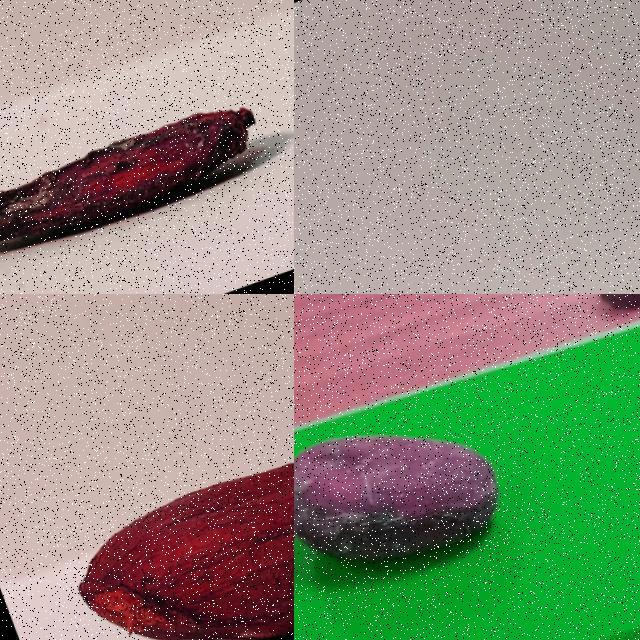Fine_cocoabeans: (12, 350, 293, 639), (294, 352, 558, 639)
Flat_cocoabeans: (0, 37, 293, 293)
